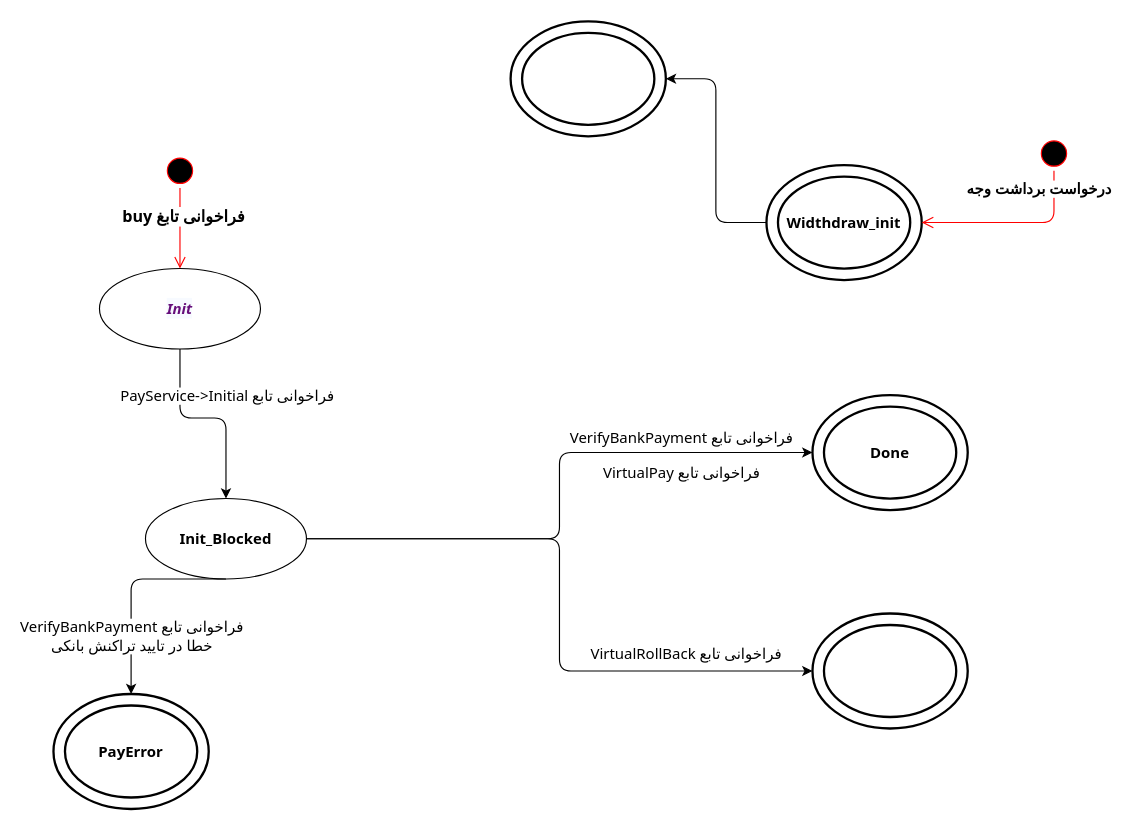
The diagram is 1130 pixels wide and 829 high, and some of its shapes have lost their labels. Here are the shapes that lost their labels. From the top down, the centre of each, then its label:
At point 587,78: "CancelByUser".
At point 889,670: "Rollbacked".
